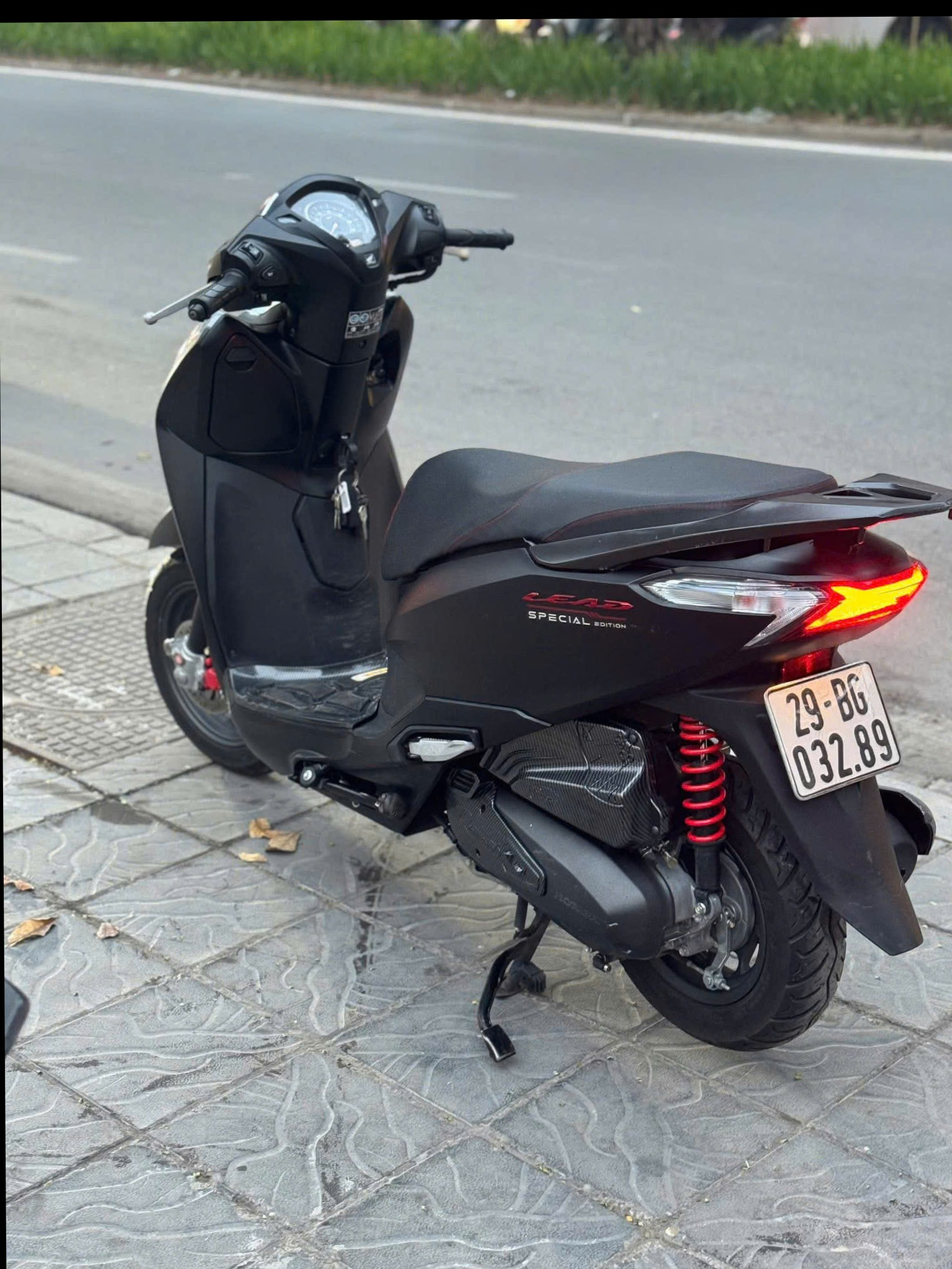Bien-so: (754, 636, 891, 772)
